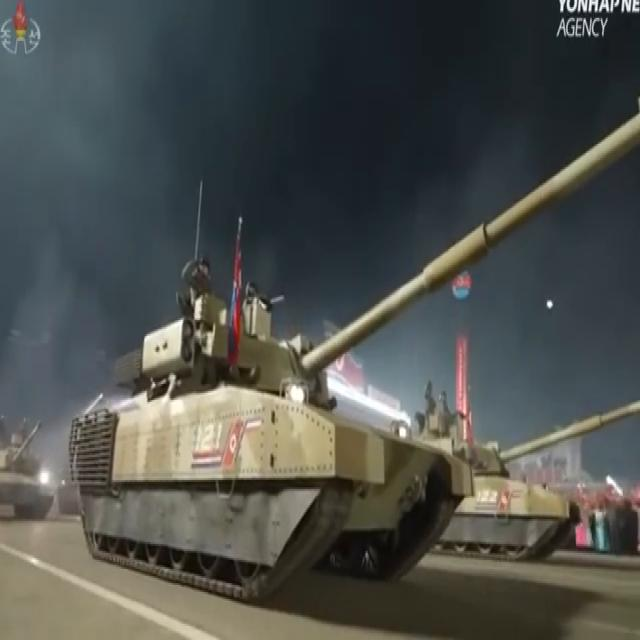north tank: (38, 106, 640, 640), (375, 386, 640, 640), (0, 380, 66, 540)
